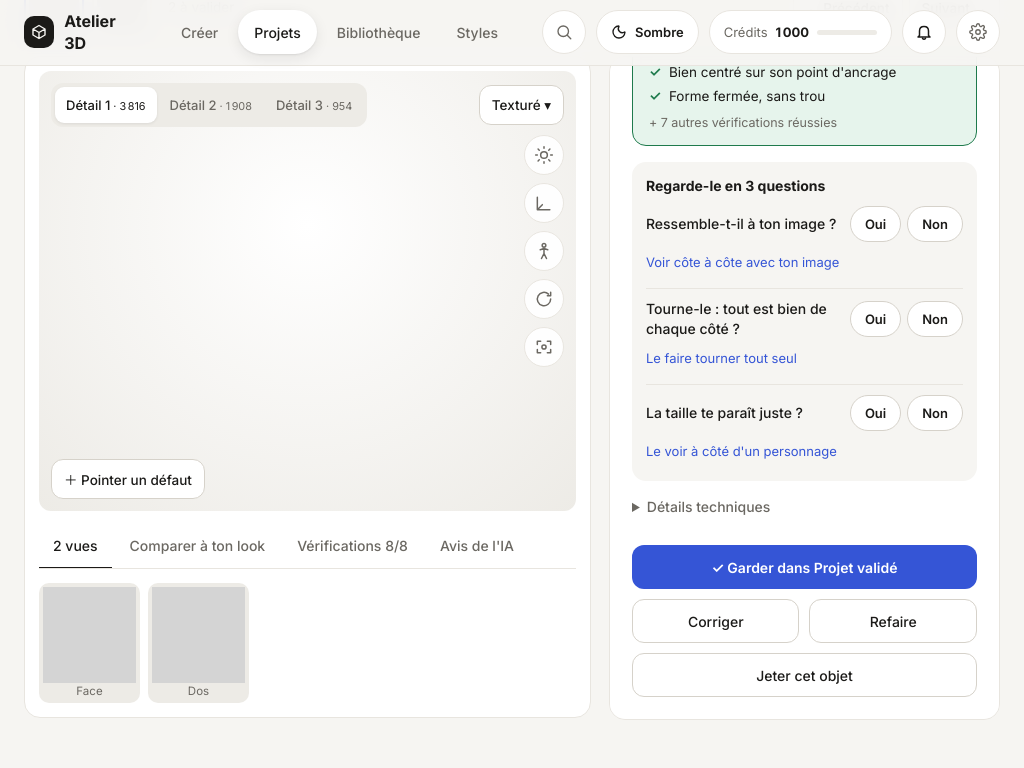
Validation › garder : POST, notification avec « Annuler », l'objet suivant s'ouvre ; Annuler revient sur lui
The width and height of the screenshot is (1024, 768).
(page scrolled)
Step 1. Click the button "✓ Garder dans Projet validé" → point(804, 567), box [632,545,977,589]
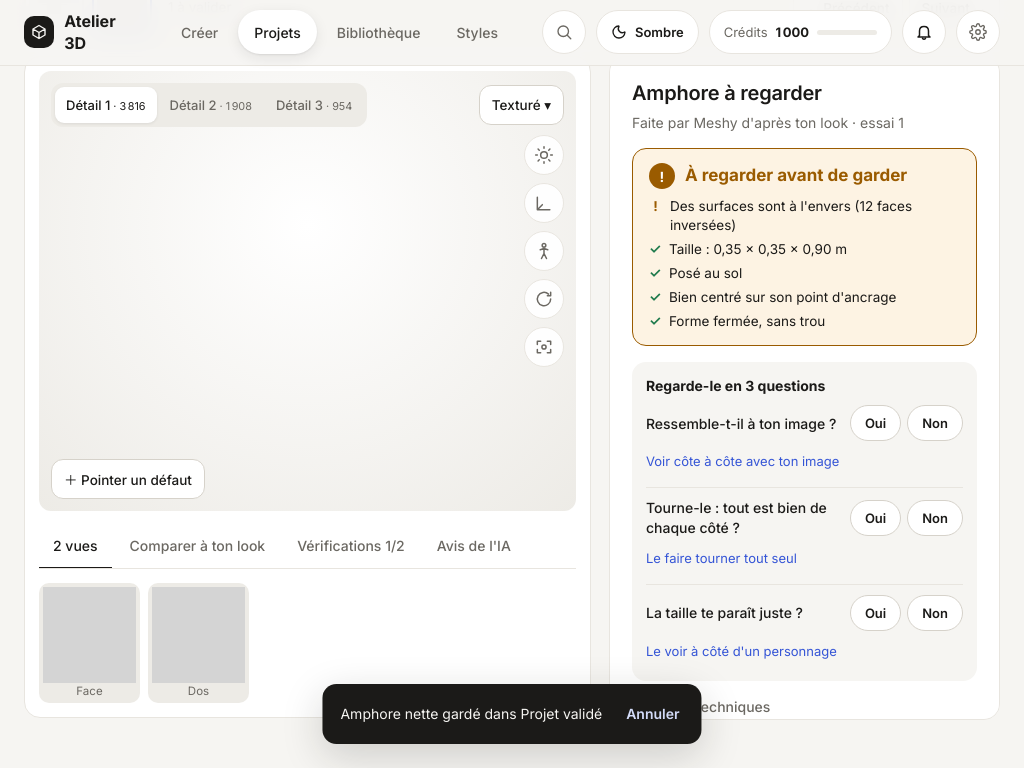
Expected: the heading "Amphore à regarder" is shown, [632,81,822,105]
Step 2. Click the button "Annuler" → point(653, 714), box [618,696,688,732]
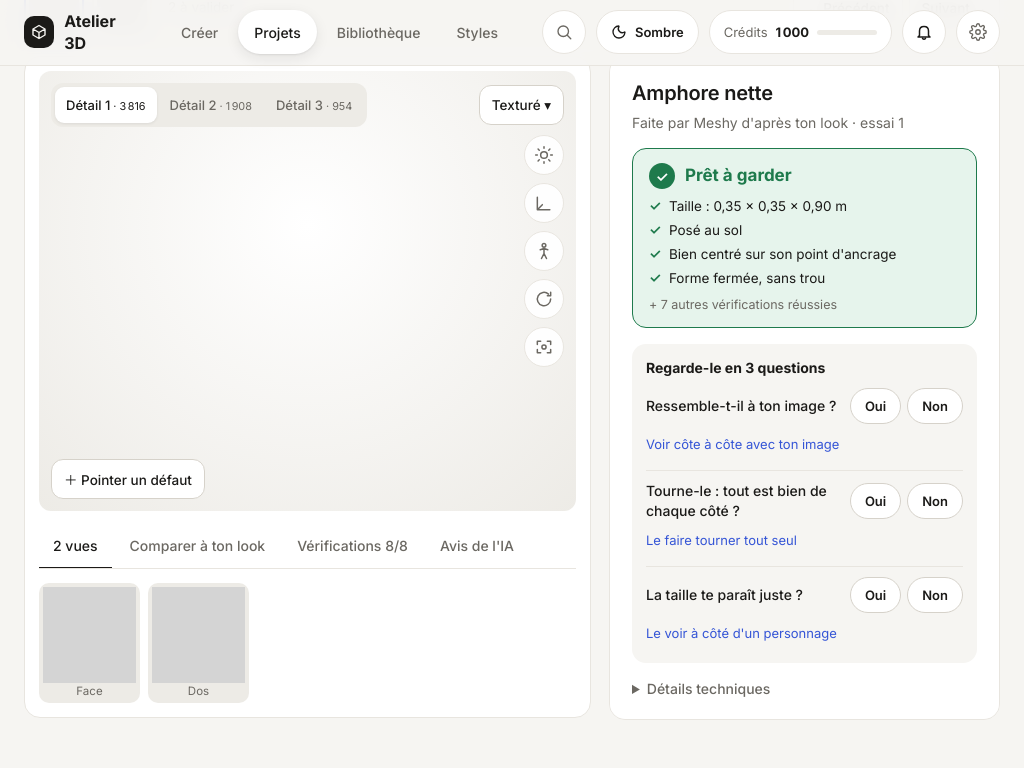
Expected: the heading "Amphore nette" is shown, [632,81,773,105]
